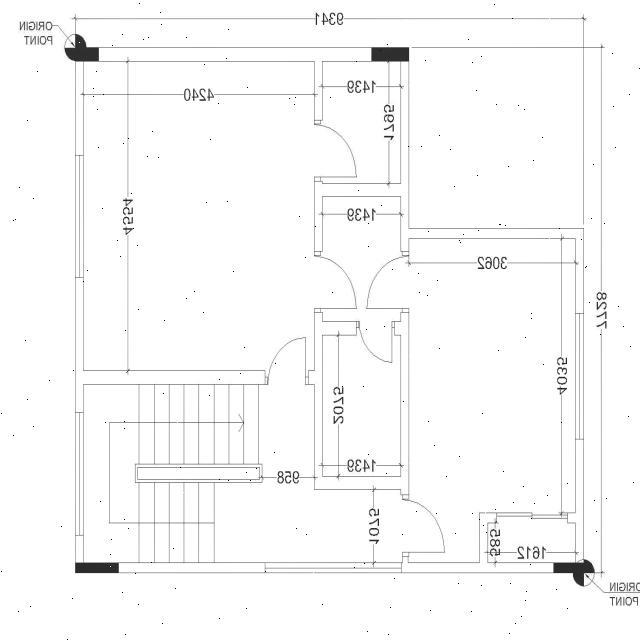Column: (371, 48, 409, 62), (75, 563, 119, 573), (75, 48, 99, 62), (554, 563, 584, 573)
Door: (314, 120, 358, 182), (314, 251, 358, 313), (402, 494, 446, 556), (366, 251, 409, 313), (264, 336, 308, 384), (356, 321, 394, 363)
Sliding Door: (496, 512, 568, 518)
Staircase: (84, 384, 314, 562)
Window: (265, 563, 401, 573), (575, 314, 584, 439), (76, 412, 84, 536), (76, 155, 84, 277)
